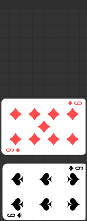6S: (6, 212, 23, 219)
9D: (4, 147, 21, 154)
